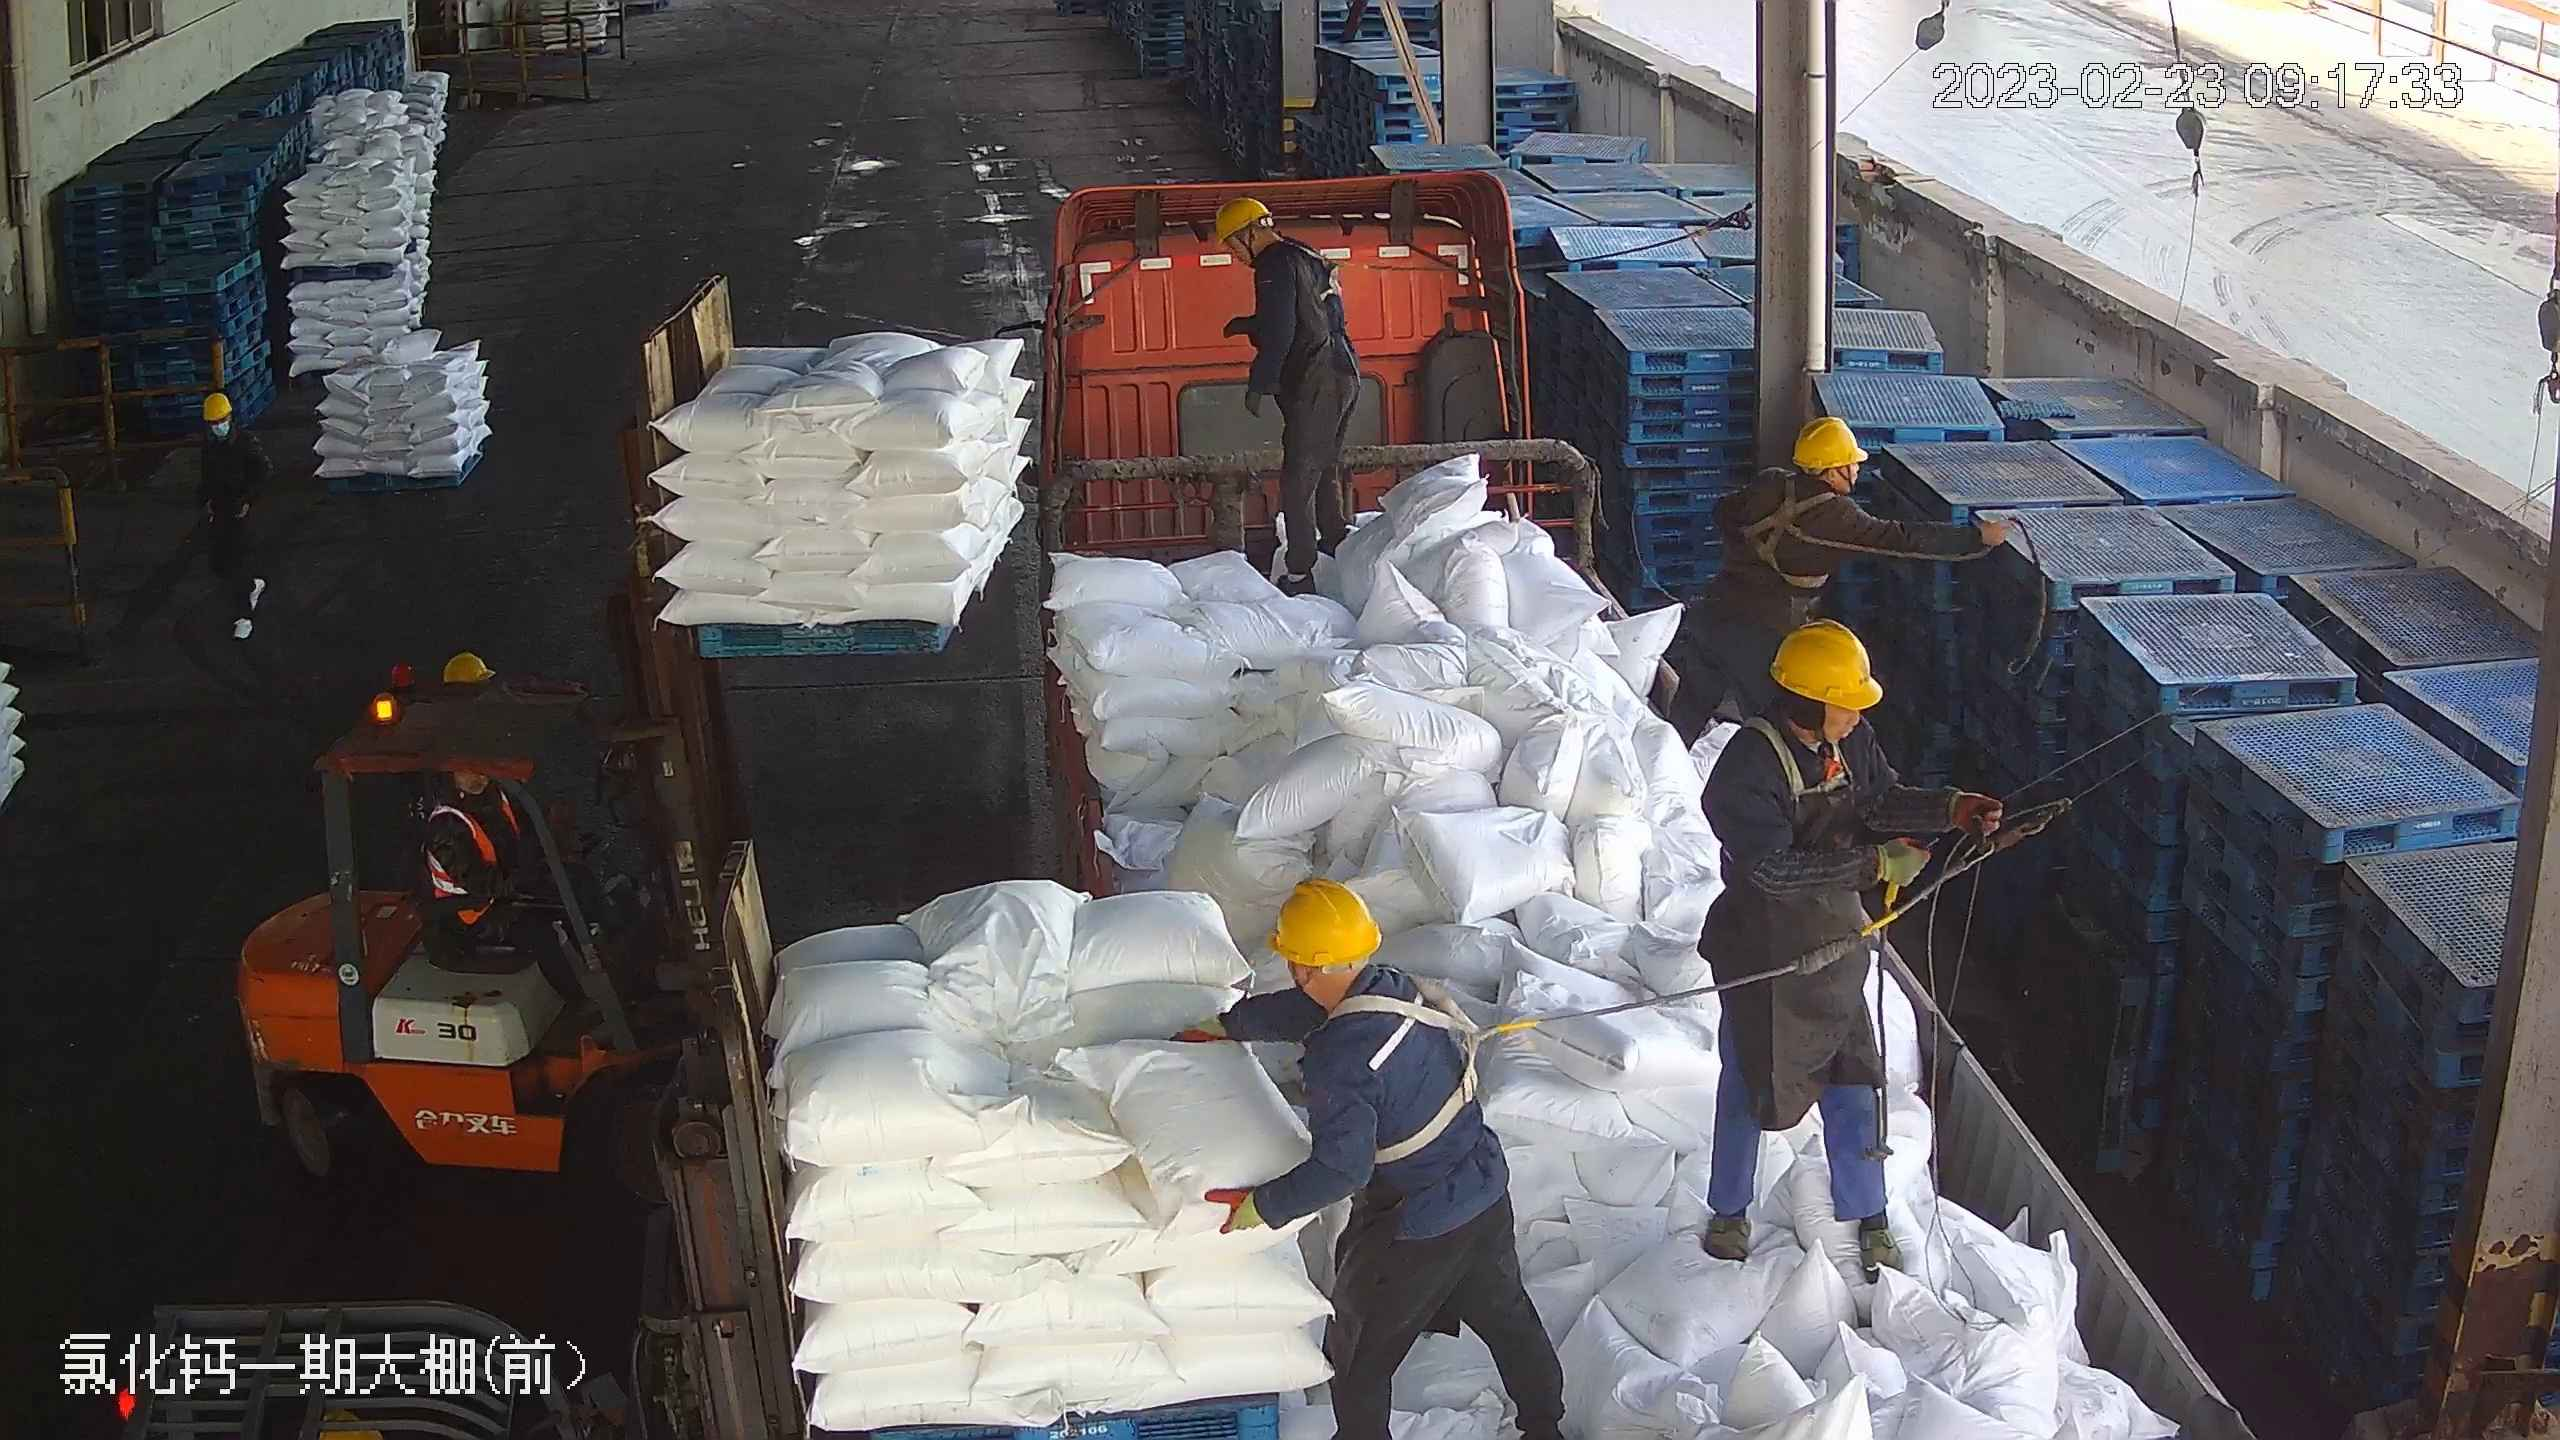belt: (1331, 992, 1532, 1170), (1745, 480, 1838, 583), (1756, 730, 1868, 803), (1263, 239, 1357, 320)
head: (1241, 878, 1456, 1097), (1728, 619, 1907, 828), (1753, 414, 1878, 549), (1207, 196, 1330, 306), (190, 390, 259, 463)
helmet: (1756, 410, 1875, 543), (1766, 618, 1884, 709), (1261, 877, 1381, 962), (1789, 410, 1868, 468), (1209, 194, 1273, 246), (197, 389, 235, 421)
people: (1177, 868, 1570, 1440), (1697, 619, 1958, 1286), (1655, 412, 1885, 749), (1203, 194, 1364, 590), (183, 385, 284, 652)
truck: (987, 166, 2243, 1424), (1729, 620, 1904, 834)
